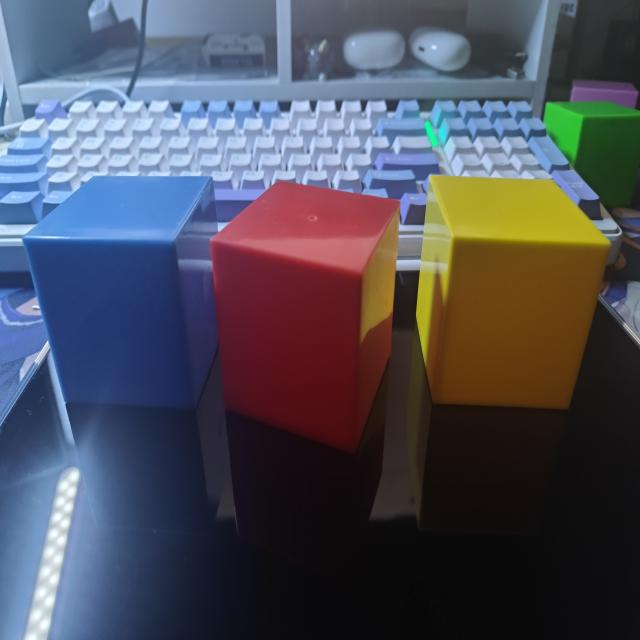blue: (20, 174, 221, 415)
red: (209, 182, 399, 460)
yellow: (418, 175, 611, 414)
